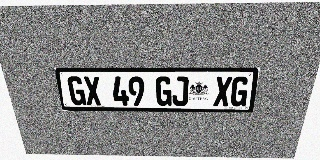4: (111, 76, 129, 106)
9: (128, 76, 145, 106)
G: (229, 77, 250, 106), (67, 76, 86, 105), (156, 76, 172, 106)
J: (172, 76, 189, 106)
X: (83, 76, 102, 105), (213, 77, 232, 106)
